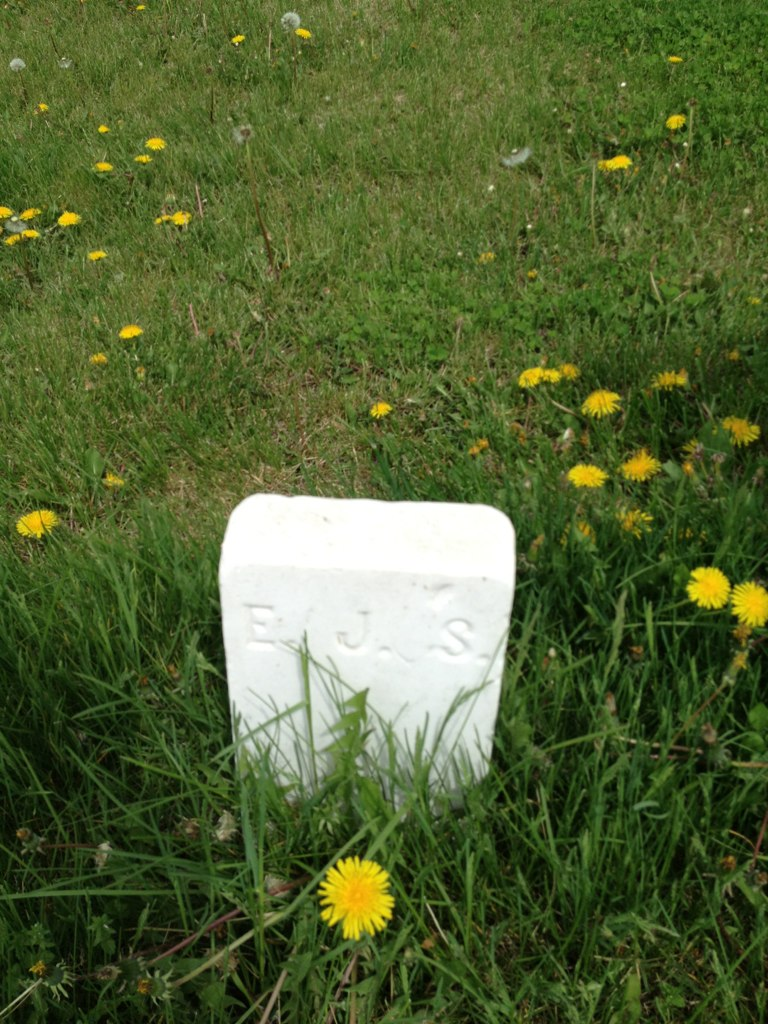upright: (197, 487, 535, 810)
